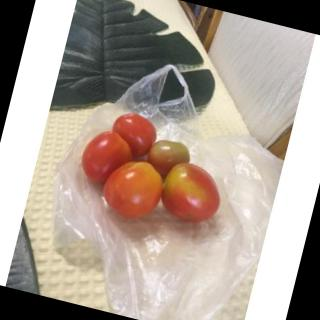Tomat: (66, 93, 240, 248)
